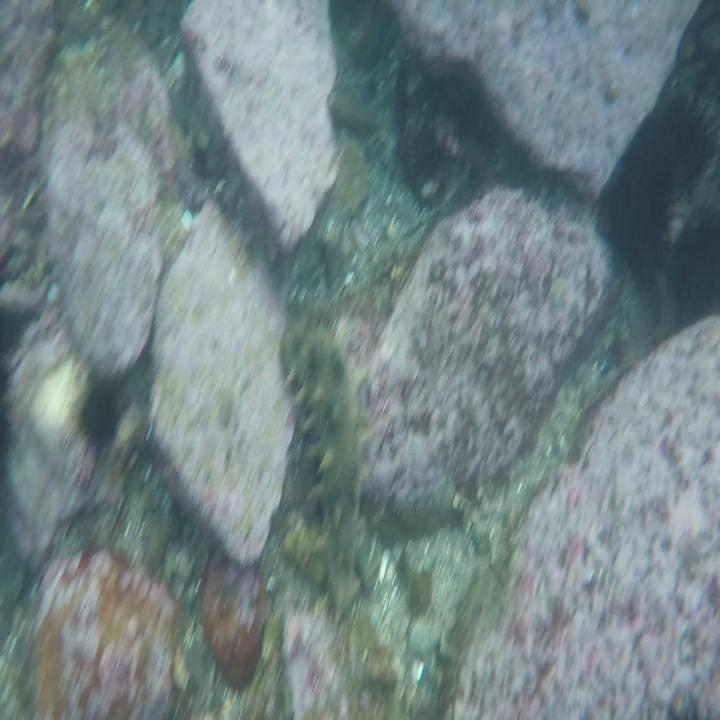echinus: (606, 145, 673, 283), (650, 75, 714, 184), (68, 373, 128, 471), (676, 209, 717, 308)
holothurian: (276, 310, 368, 620)
